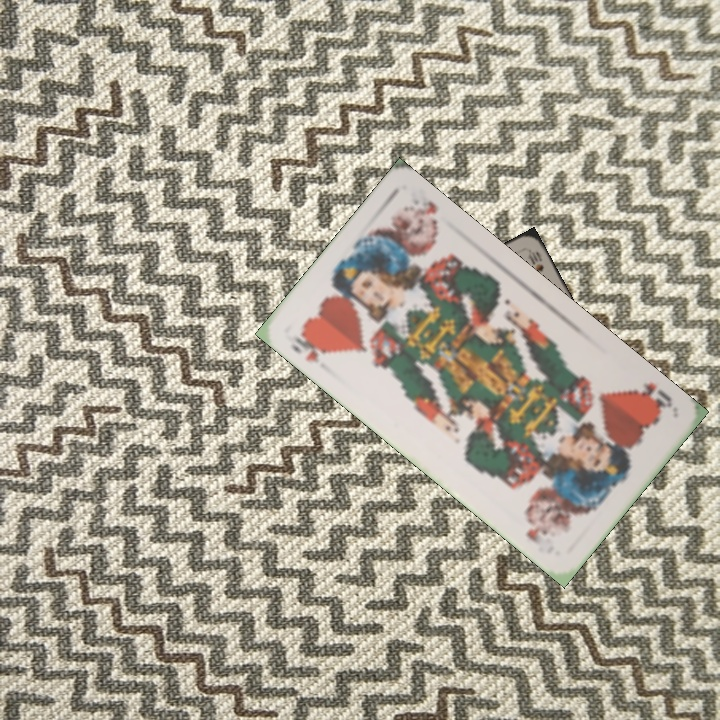HO: (285, 328, 332, 366), (630, 378, 675, 415)
